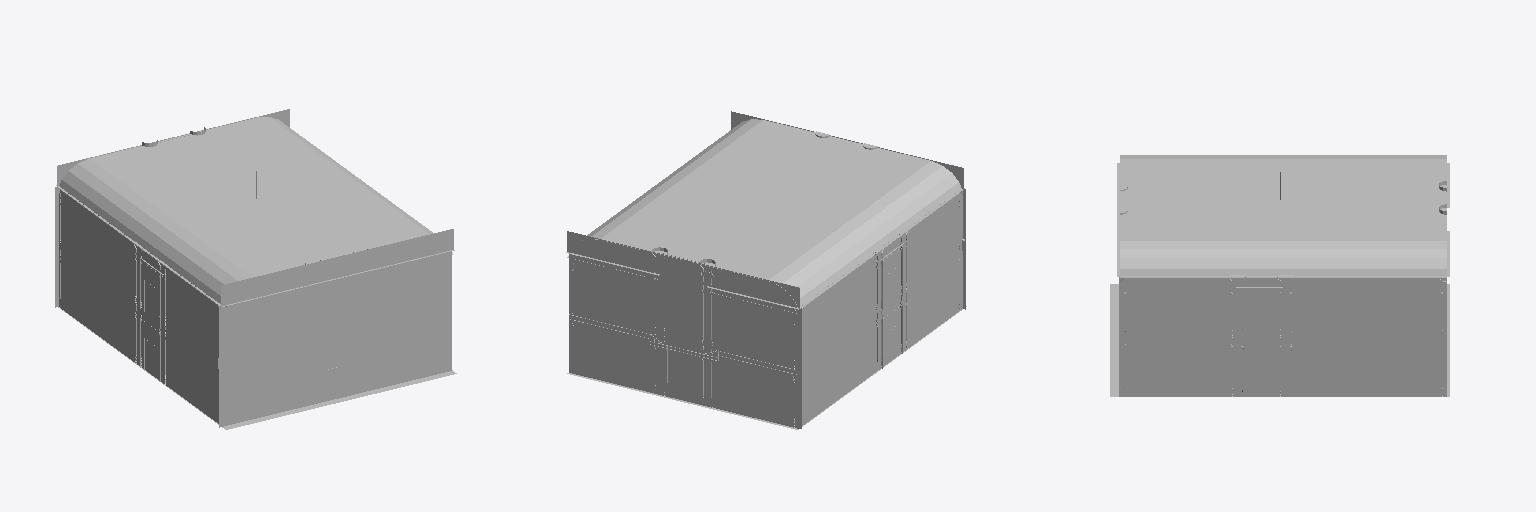
File: hall.obj
The picture shows the model from 3 angles: view 1: azimuth 30°, elevation 25°; view 2: azimuth 150°, elevation 25°; view 3: azimuth 270°, elevation 25°; orthographic projection.
Size of the model in its own units: 26.2 by 18.08 by 32.81.